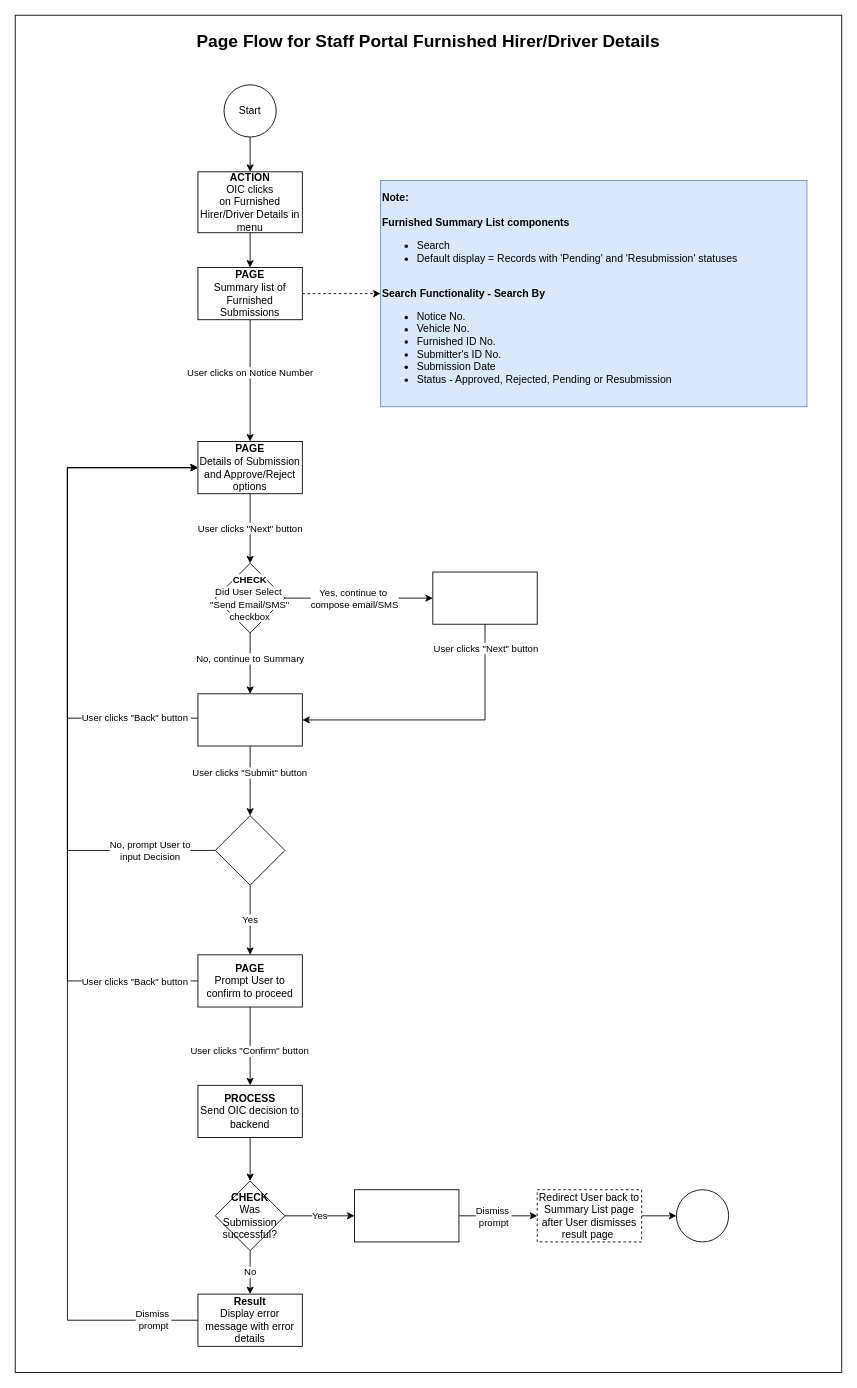
This 857x1388 diagram has some shape labels left out. The shapes that lost their labels are listed below. From the top down, each one's box as (x1, y1, x2, y2) in pixels, then its label:
(432, 571, 537, 624): PAGE Compose Email/SMS screen
(197, 693, 302, 746): PAGE Display Summary for user to do a final check before submission
(214, 815, 285, 885): CHECK Did User select a decision?
(354, 1189, 459, 1242): Result Display update is successful message
(676, 1189, 729, 1242): End
